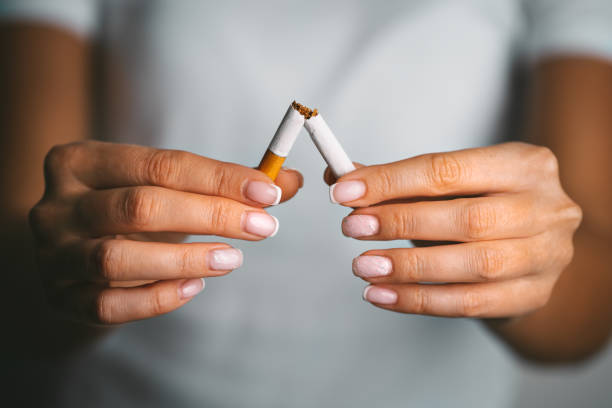cigarette: (257, 101, 309, 184), (301, 108, 356, 180)
